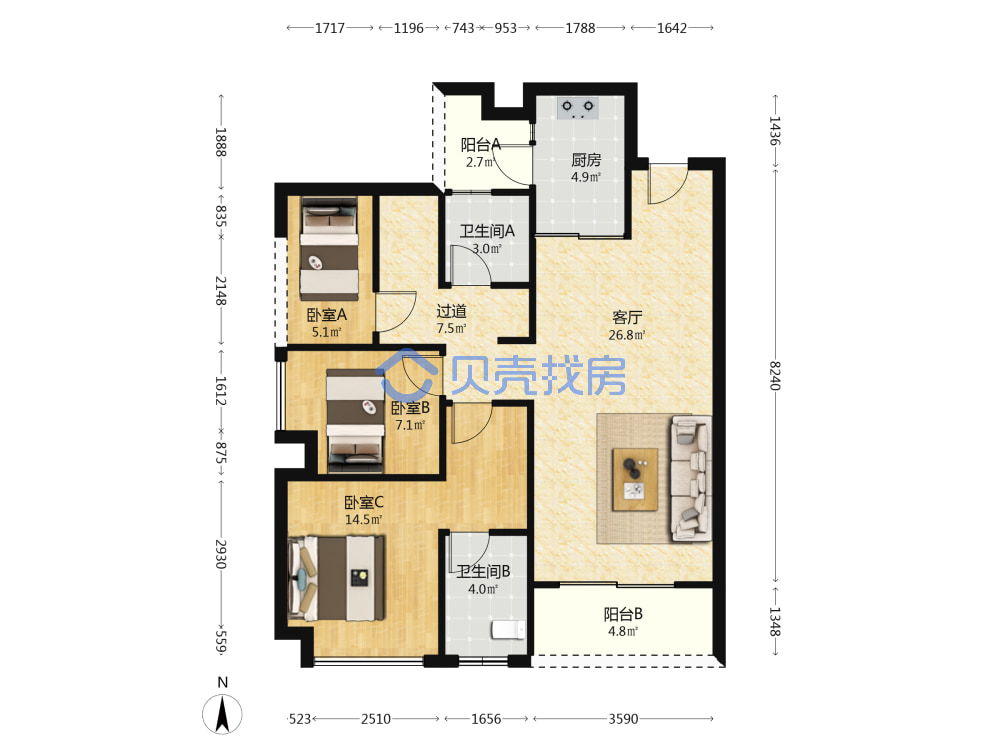DOOR(单开门): (444, 239, 497, 292), (484, 142, 544, 188), (372, 287, 420, 335), (446, 528, 492, 577), (643, 160, 692, 206), (448, 399, 496, 445)
DOOR（移门）: (554, 576, 679, 592), (531, 229, 628, 242)
